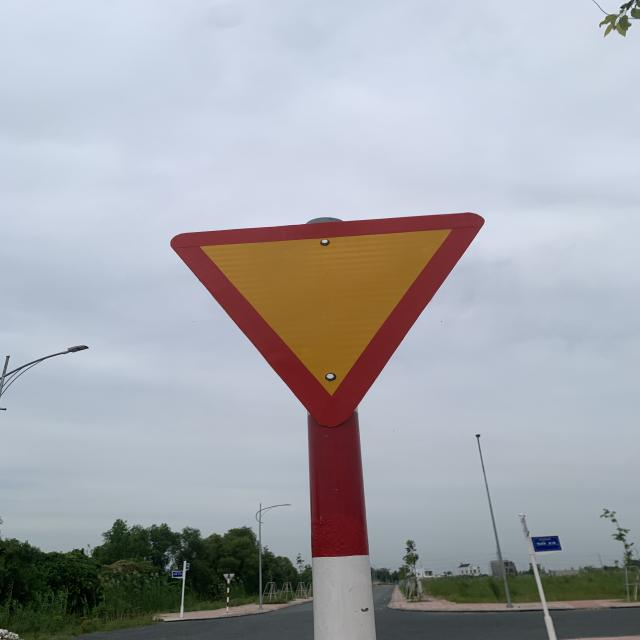Gioi_Han_Toc_Do_25: (172, 212, 486, 426)
